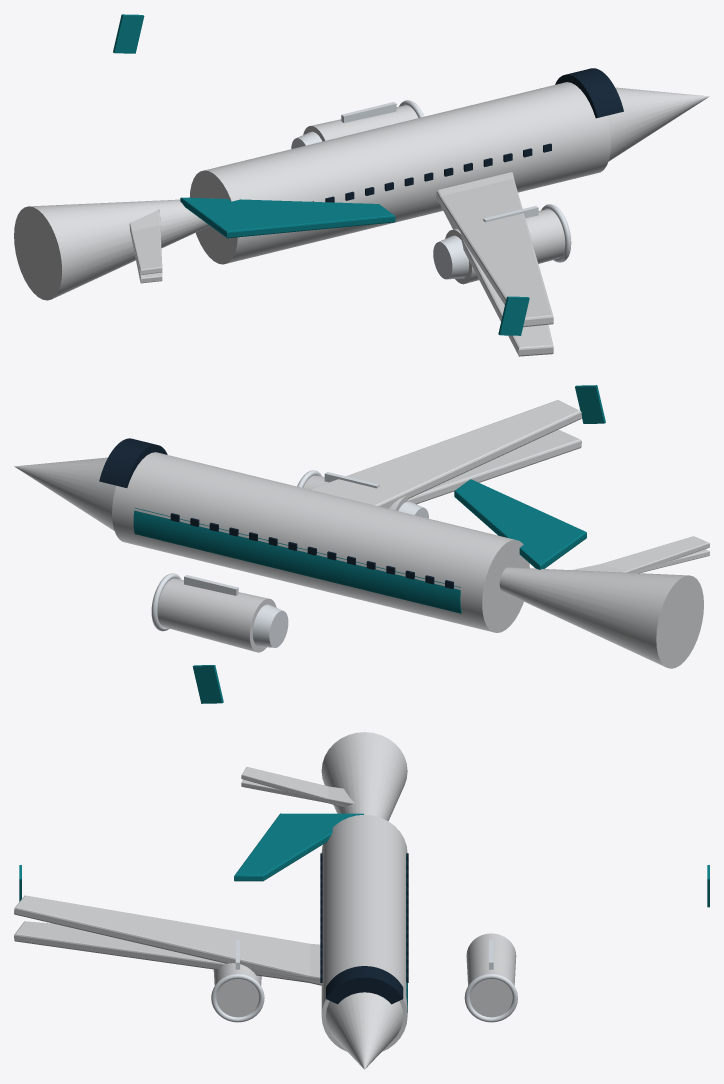
The model's file is airplane.glb.
The picture shows the model from 3 angles, top to bottom: view 1: azimuth 30°, elevation 25°; view 2: azimuth 150°, elevation 25°; view 3: azimuth 270°, elevation 25°; orthographic projection. The views are drawn at different scales.
Visible parts, largest first — view 1: CommercialPassengerAircraft; view 2: CommercialPassengerAircraft; view 3: CommercialPassengerAircraft.
Part boxes in pixels (box(x1,y1,x2,y2)): CommercialPassengerAircraft: box(14, 14, 709, 356); CommercialPassengerAircraft: box(14, 385, 709, 703); CommercialPassengerAircraft: box(14, 732, 709, 1069).
Bounding box in the file's own units: 15.3 × 2.35 × 15.38.
